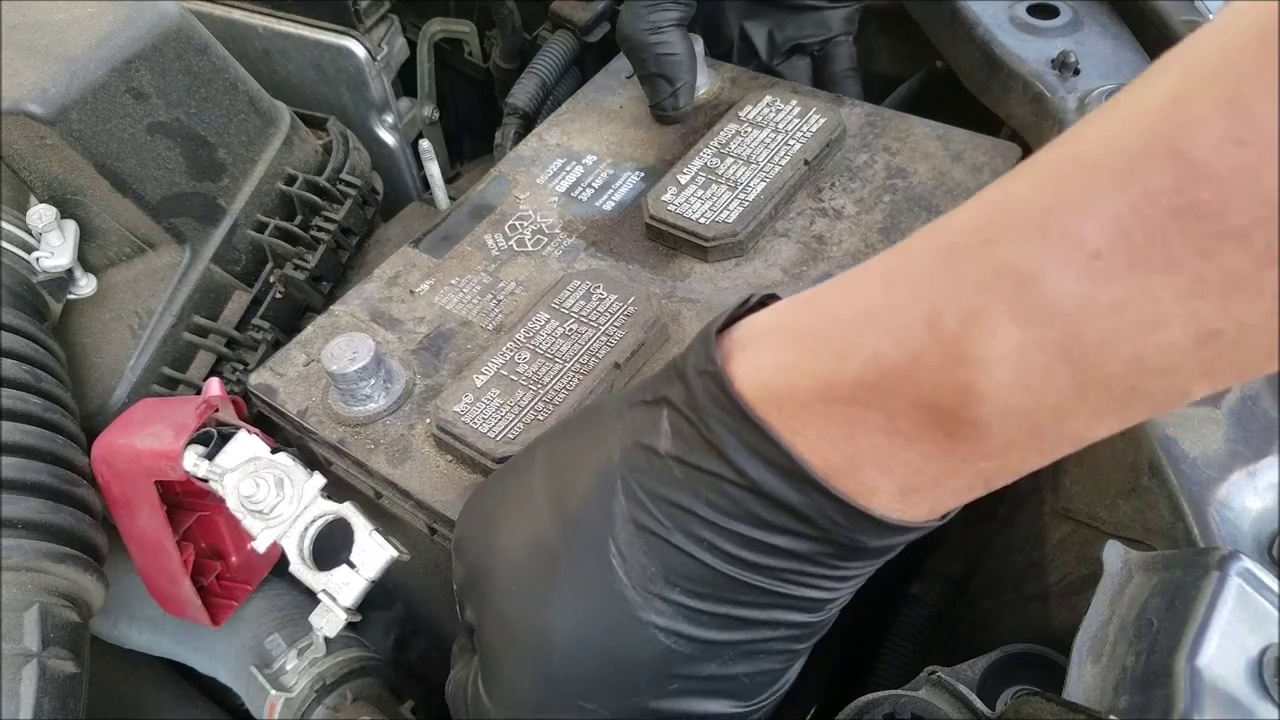battery: (291, 15, 1027, 569)
pos_disconnected: (102, 316, 434, 624)
